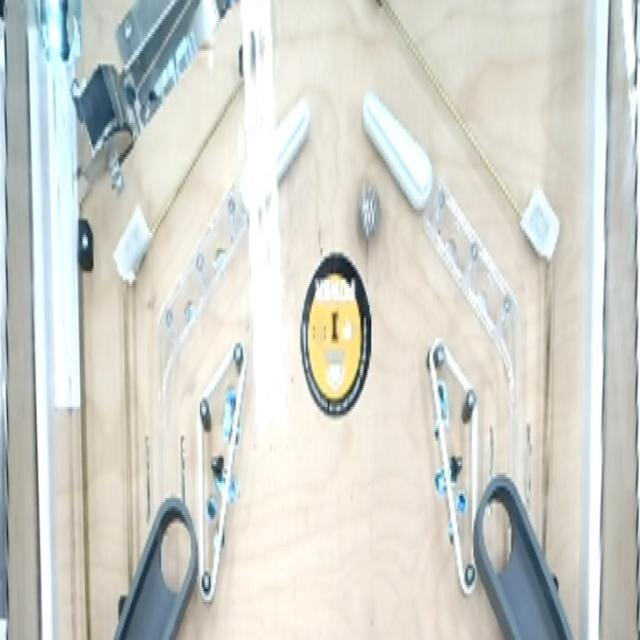ball: (353, 174, 381, 246)
flipper-left: (359, 80, 437, 220)
flipper-right: (236, 90, 314, 226)
